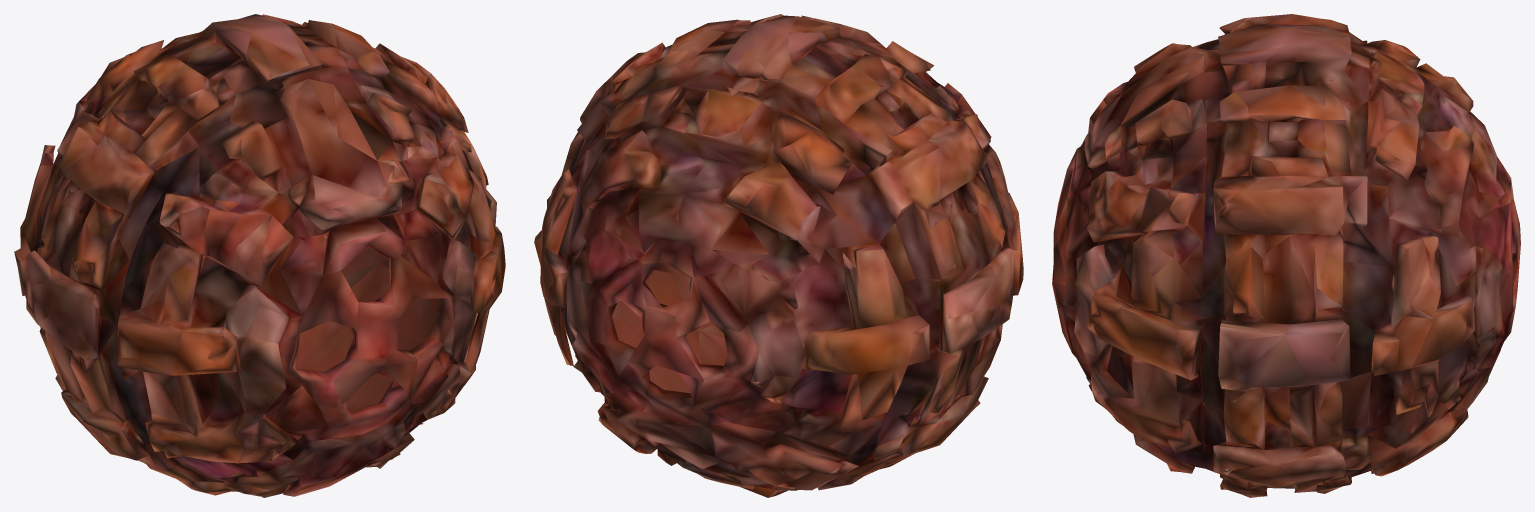
Rendered from bowling-ball.glb.
3 views of the same model, side by side, from view 1: azimuth 30°, elevation 25°; view 2: azimuth 150°, elevation 25°; view 3: azimuth 270°, elevation 25° (orthographic).
Visible parts, largest first — view 1: bowling-ball; view 2: bowling-ball; view 3: bowling-ball.
Boxes of the visible parts, <box> form: bowling-ball: <box>14,14,505,497</box>; bowling-ball: <box>534,14,1023,497</box>; bowling-ball: <box>1052,14,1520,497</box>.
Bounding box in the file's own units: 0.3395 × 0.34 × 0.3228.
1 material, 1 textured.
